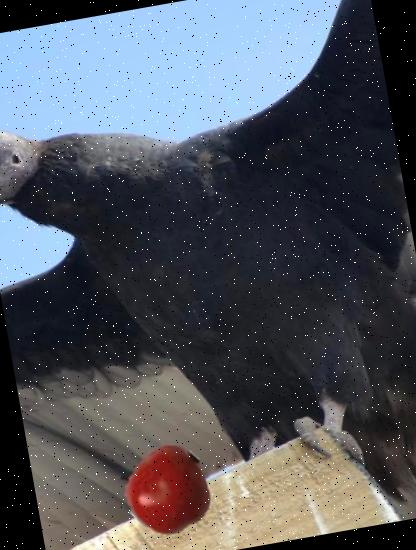Tomato: (120, 441, 221, 542)
